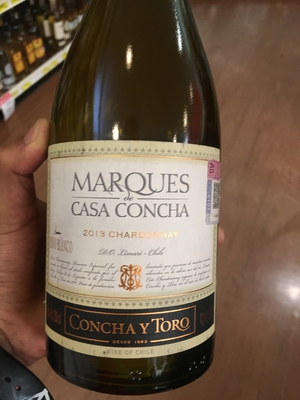marques de casa concha chardonnay: (47, 6, 239, 390)
